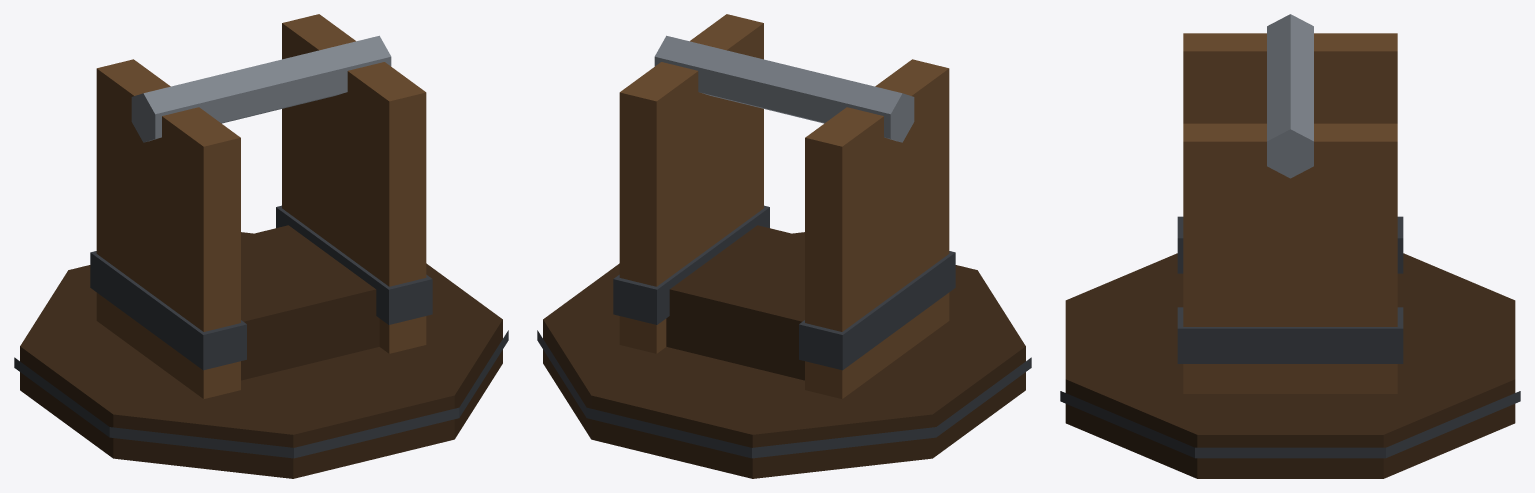
File: dk_ballista_post.glb
3 views of the same model, side by side, from view 1: azimuth 30°, elevation 25°; view 2: azimuth 150°, elevation 25°; view 3: azimuth 270°, elevation 25° (orthographic).
Parts seen in each view (by area): view 1: dk_ballista_post; view 2: dk_ballista_post; view 3: dk_ballista_post.
Part boxes in pixels (x1,y1,x2,y2): dk_ballista_post: [14, 14, 508, 478]; dk_ballista_post: [537, 14, 1031, 478]; dk_ballista_post: [1060, 14, 1520, 478].
Size of the model in its own units: 2.37 by 1.77 by 2.37.
Materials: 1 (1 with a texture image).
